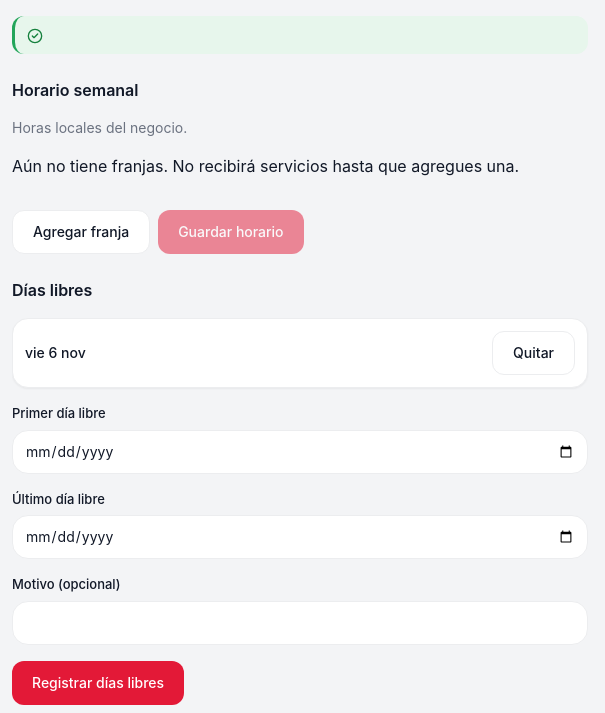
TechnicianDetailPage: días libres › quita un período de días libres por el mismo flujo
(page scrolled)
Click the button with aria-label "Quitar días libres vie 6 nov".
click(534, 353)  # box [492,331,575,375]
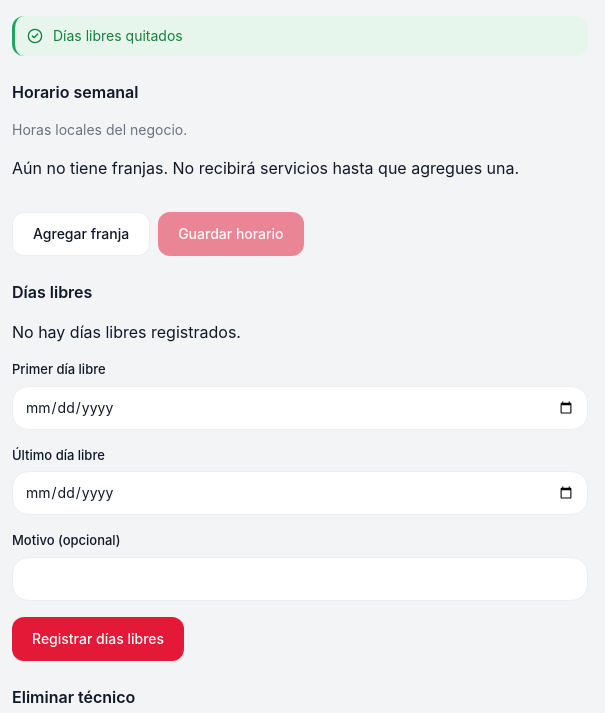
Result: the text "Días libres quitados" is shown at [53,27,183,44]
Result: the text "vie 6 nov" is gone
